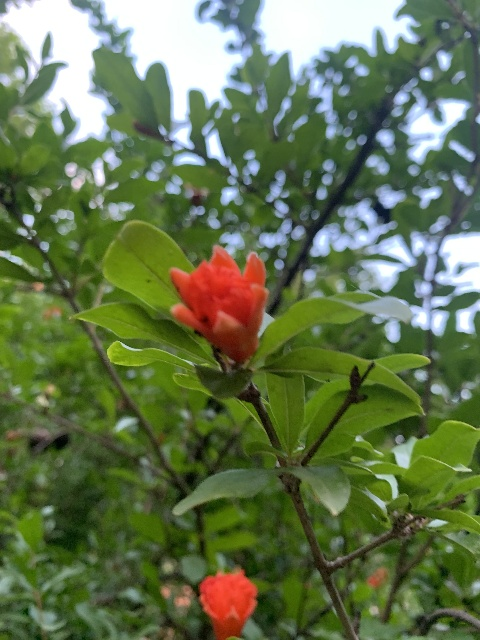flower: (167, 244, 269, 363), (198, 566, 258, 640)
